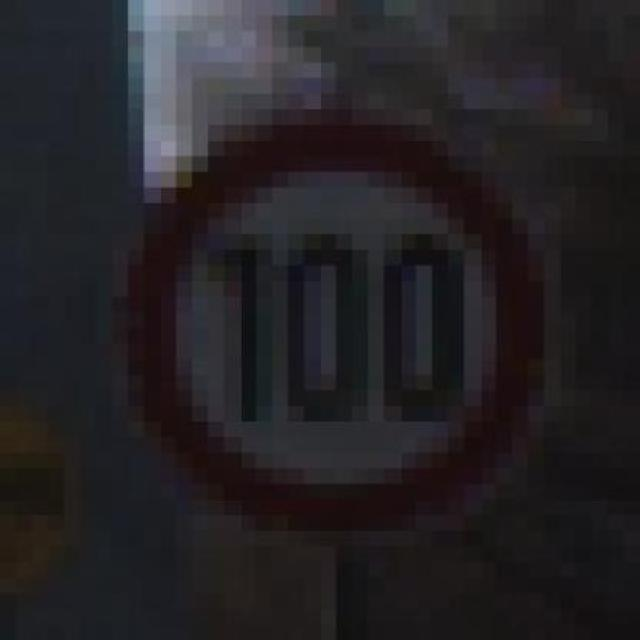forb_speed_over_100: (129, 125, 546, 536)
